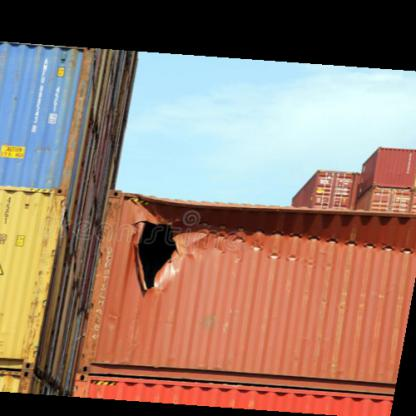Damage: (110, 197, 226, 294), (179, 197, 412, 243)
